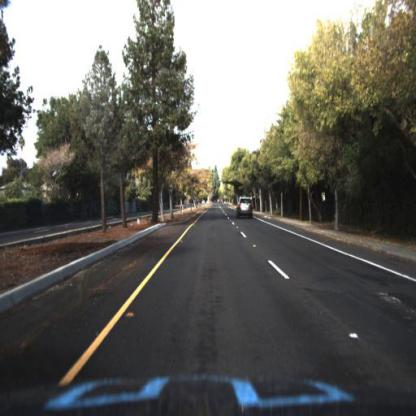car: (237, 196, 255, 220)
